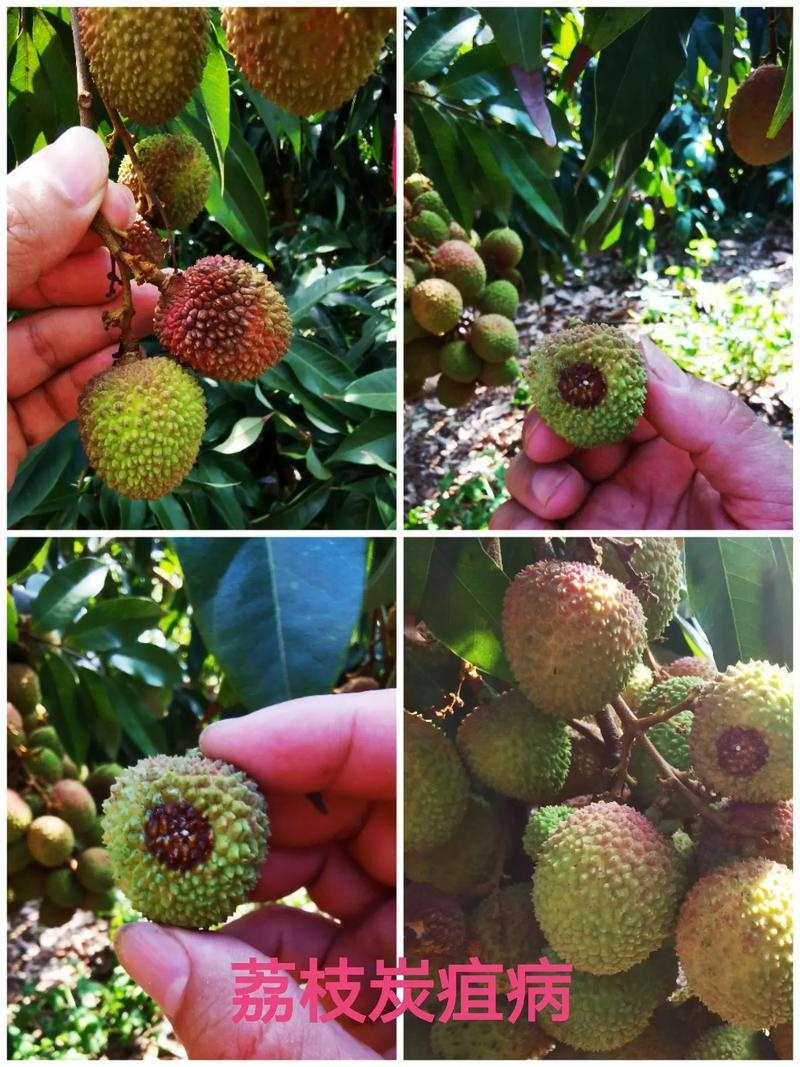Anthracnose: (127, 207, 288, 354), (57, 772, 246, 881), (75, 8, 250, 109), (93, 145, 213, 230), (529, 308, 622, 409), (710, 726, 778, 808)
